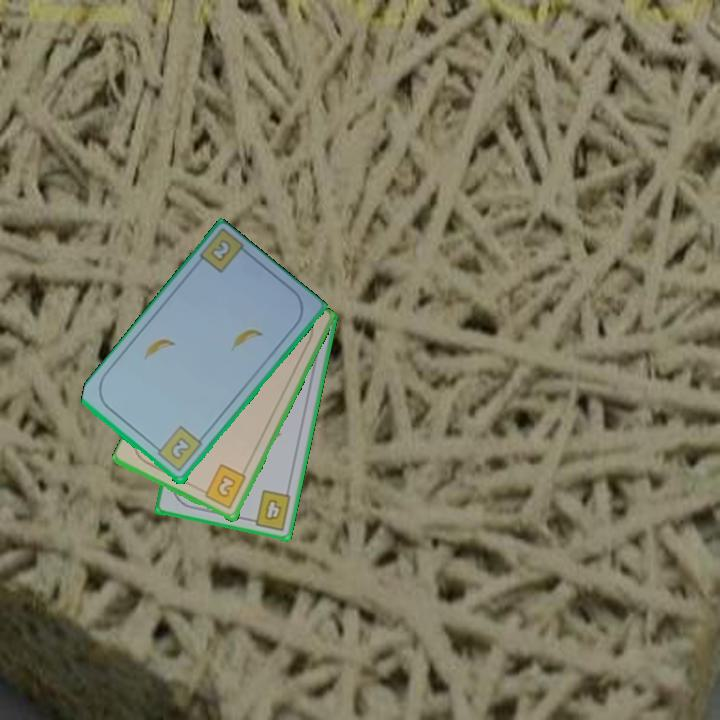2b: (150, 423, 205, 475), (196, 461, 249, 512), (207, 236, 234, 265)
4b: (245, 486, 294, 533)
